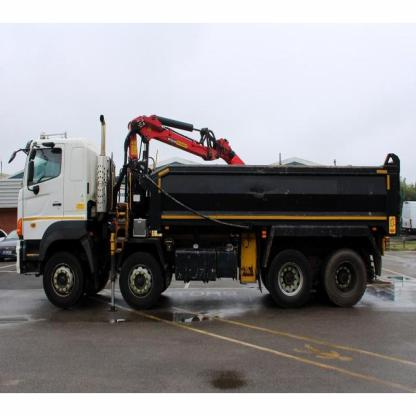dump_truck: (12, 100, 406, 320)
